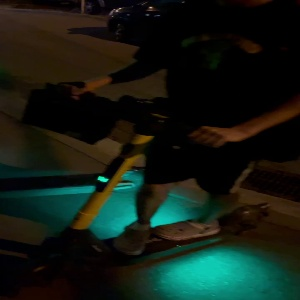human on a scooter: (1, 1, 300, 289)
